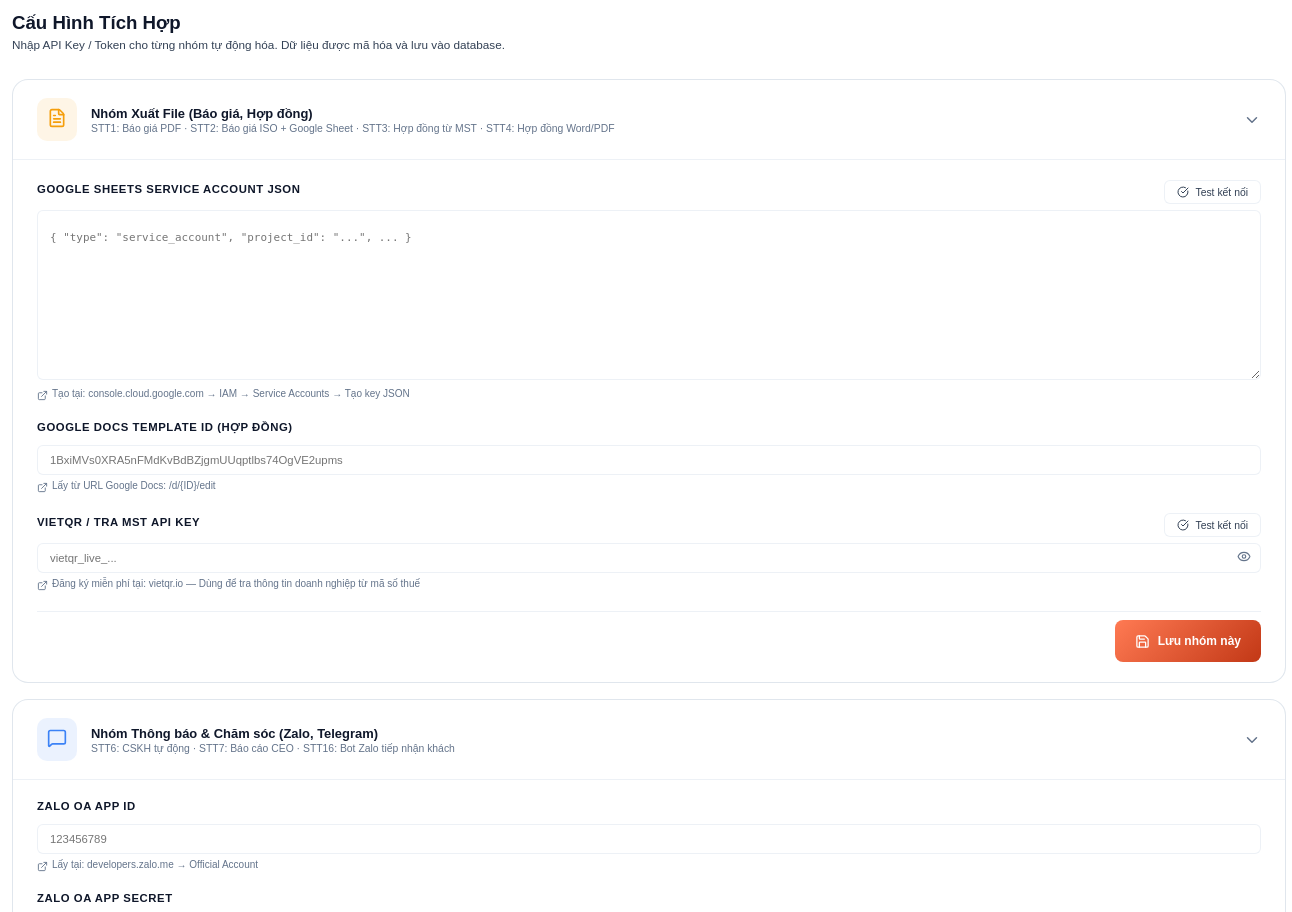
Scenario: Settings › shows a toast when a connection test fails
Click the button "Test kết nối" in the row of "Google Sheets Service Account JSON" at {"x": 1213, "y": 192}, box [1164,180,1261,204]
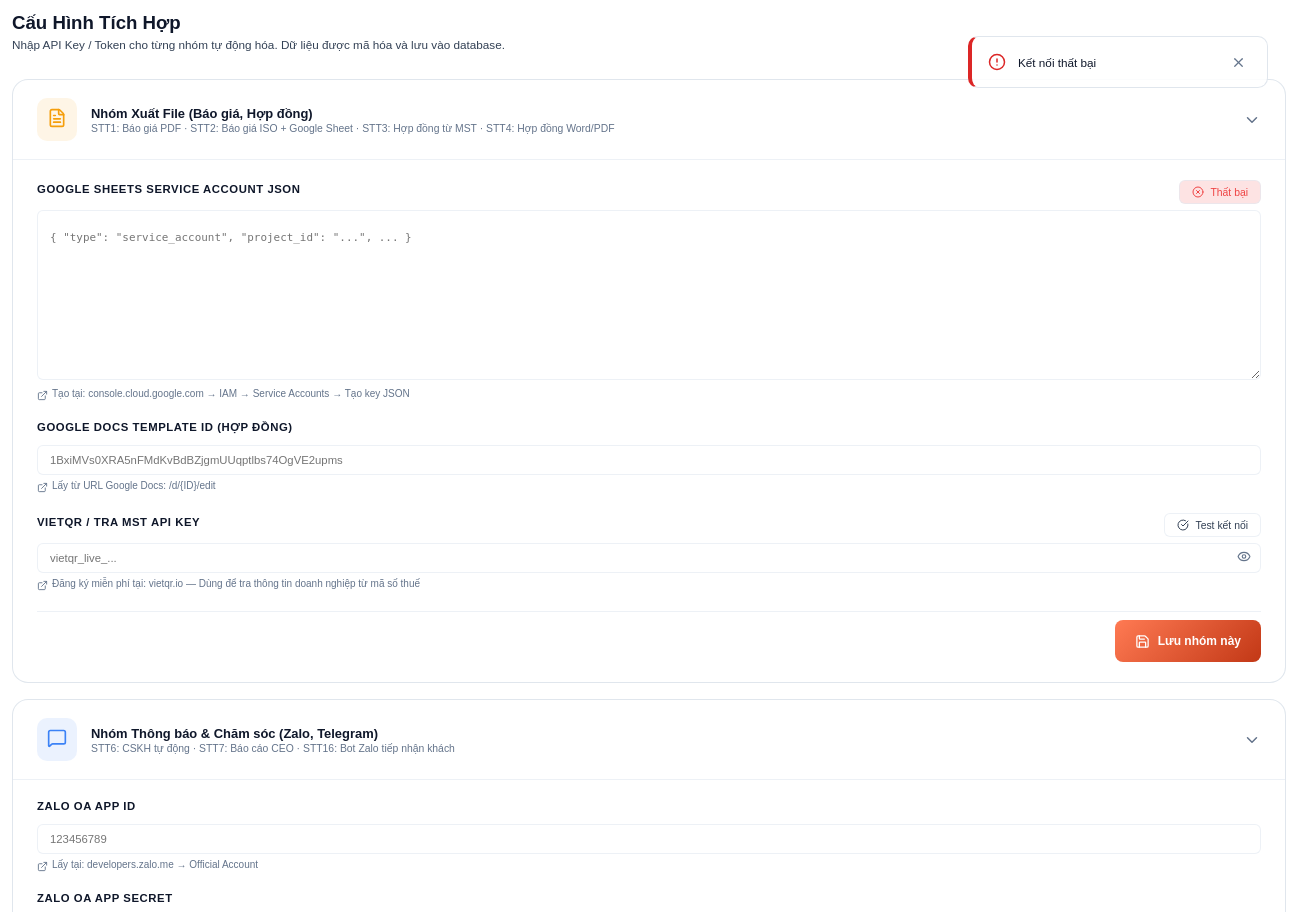
Check: the text "Kết nối thất bại" is shown, box [1018,56,1096,68]
